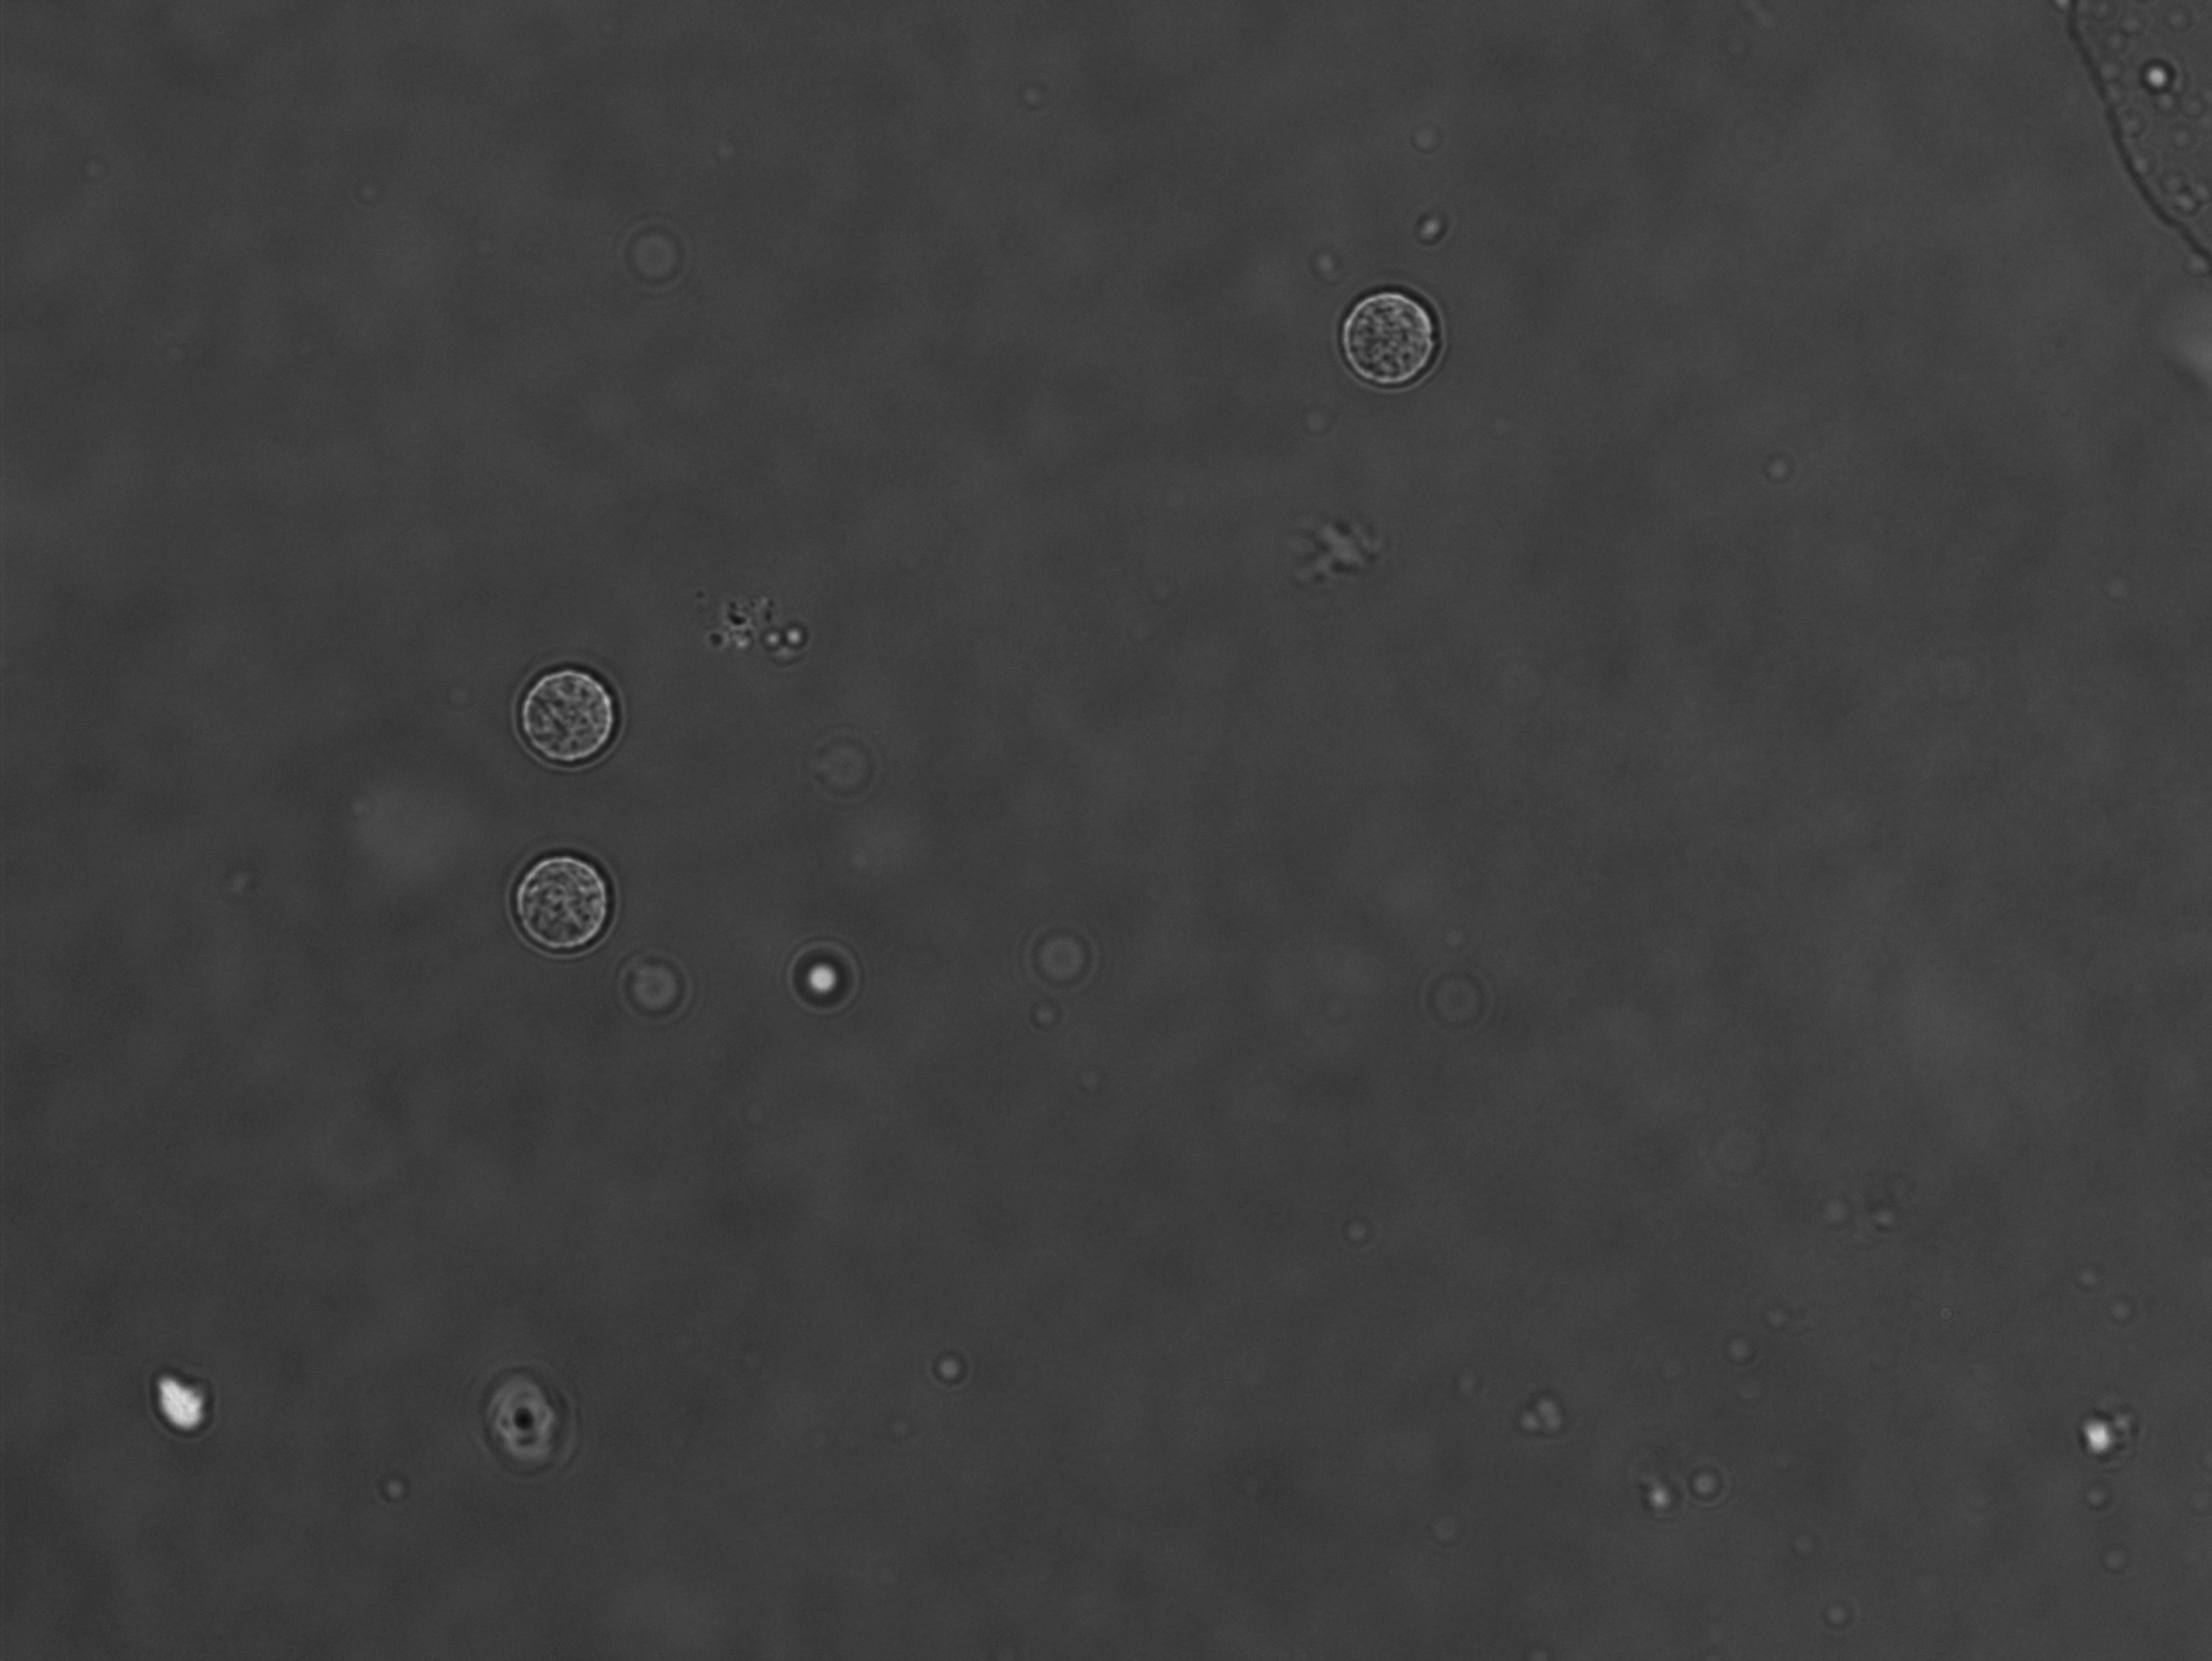depth:0: (478, 836, 630, 972), (492, 653, 632, 780), (1333, 283, 1455, 410)
